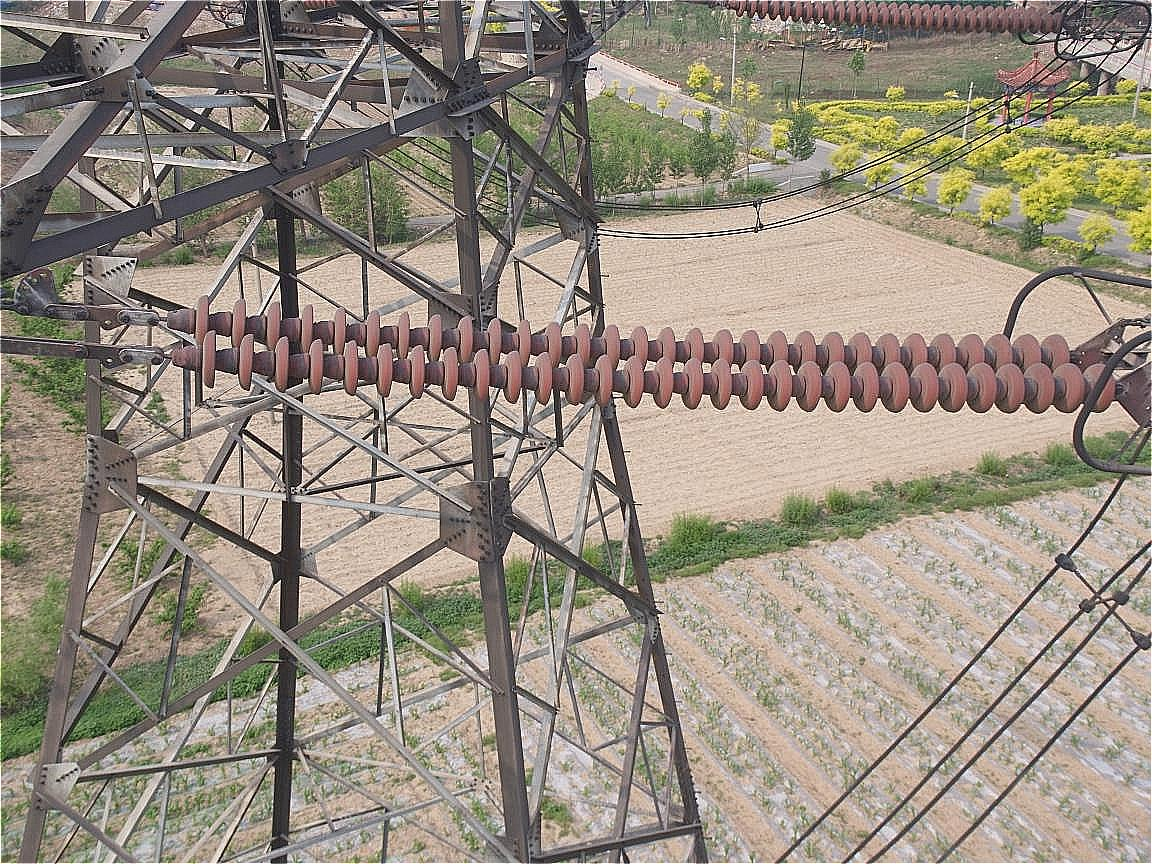insultor1: (167, 266, 1136, 444)
